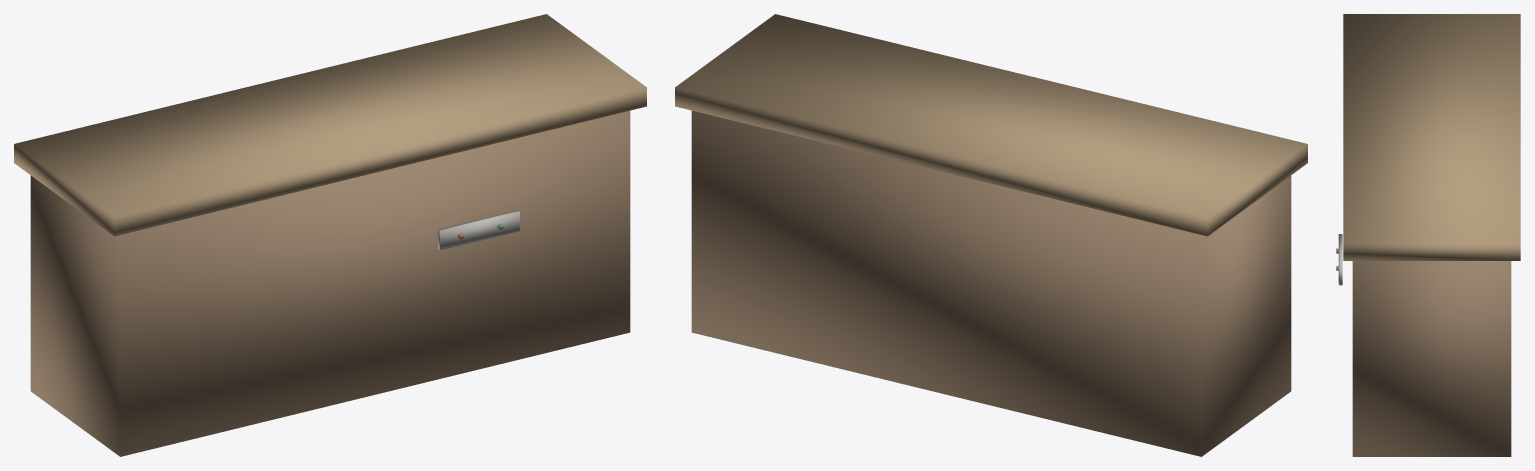
Rendered from florist_wrapping_counter__wide.glb.
The picture shows the model from 3 angles, left to right: view 1: azimuth 30°, elevation 25°; view 2: azimuth 150°, elevation 25°; view 3: azimuth 270°, elevation 25°; orthographic projection. The views are drawn at different scales.
Parts seen in each view (by area): view 1: world; view 2: world; view 3: world.
Boxes of the visible parts, <box> form: world: <box>14,14,646,456</box>; world: <box>675,14,1307,456</box>; world: <box>1336,14,1520,456</box>.
Size of the model in its own units: 2.33 by 1.03 by 0.791.
